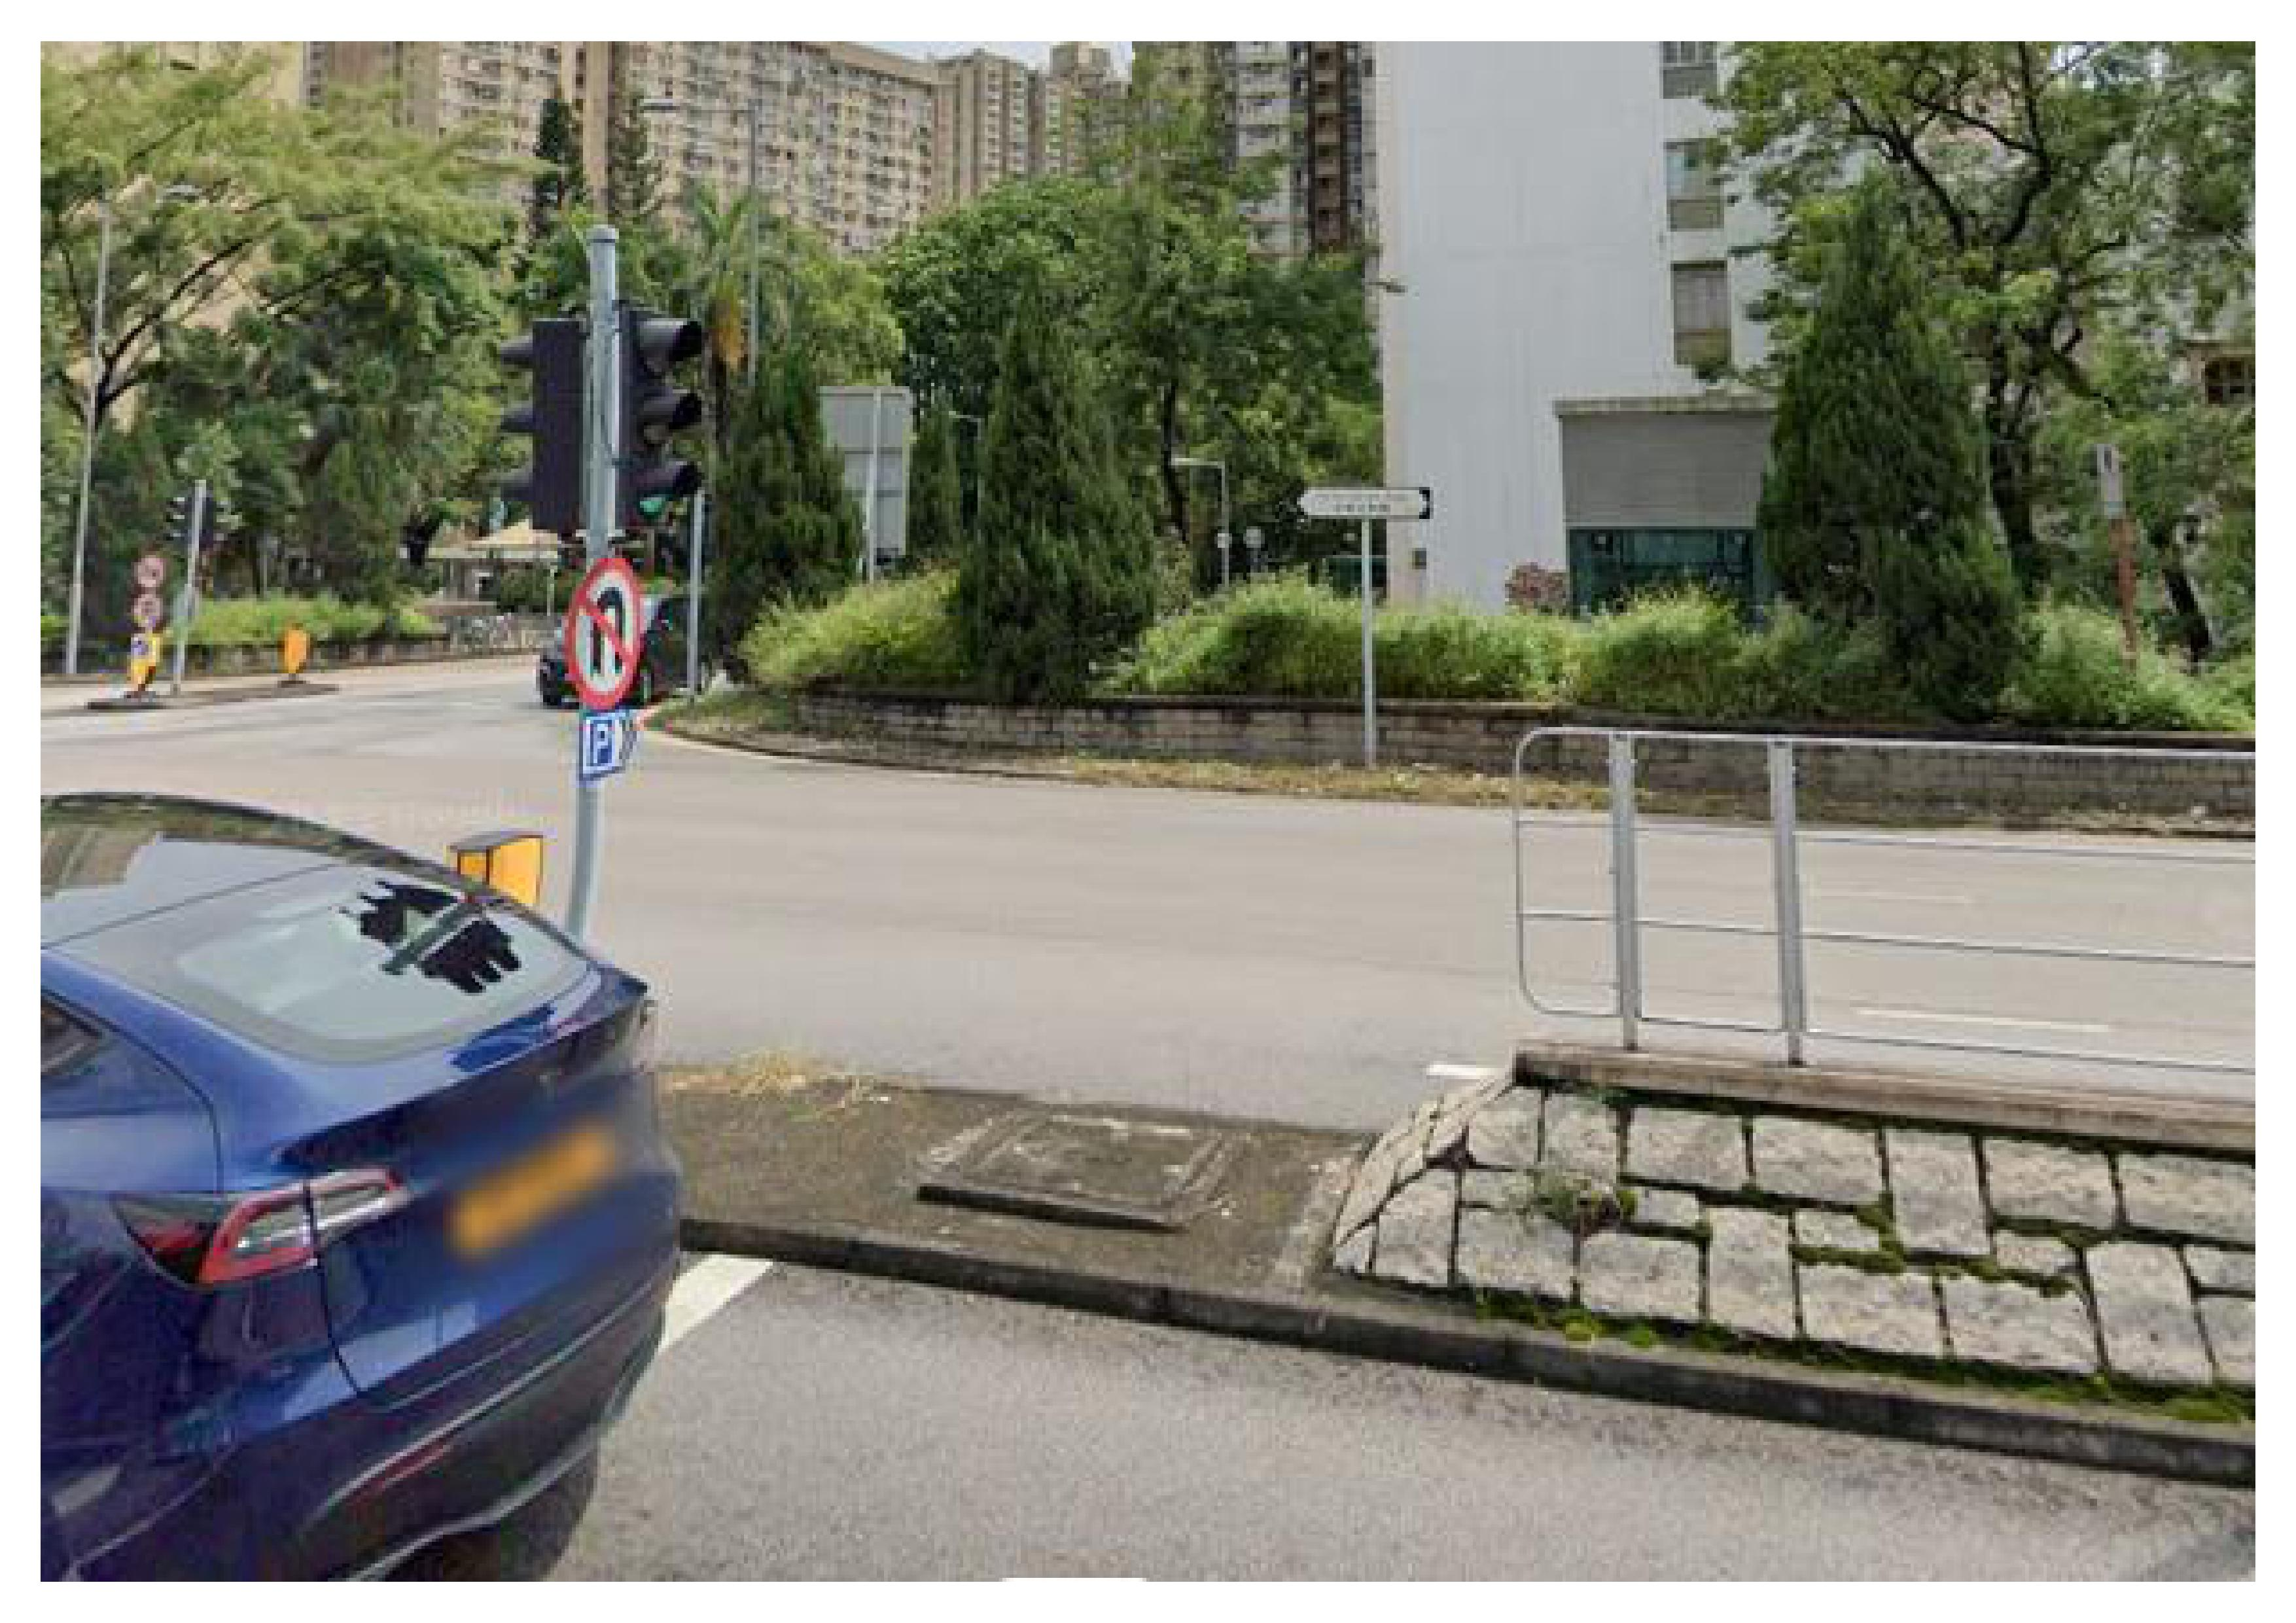No Uturn: (562, 557, 658, 718)
